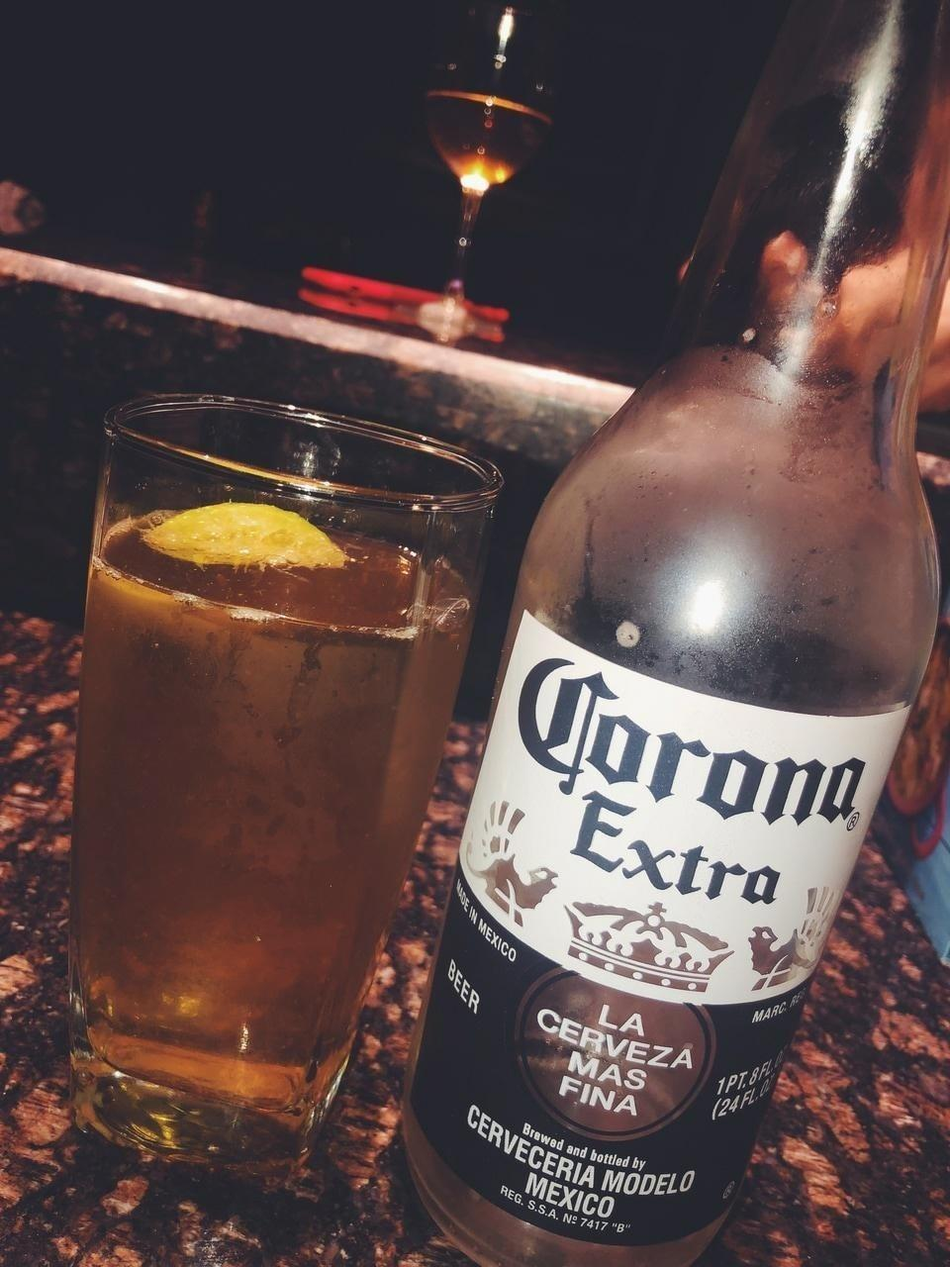bottle-glass: (395, 6, 950, 1267)
glass-normal: (53, 390, 507, 1171)
glass-wine: (406, 1, 565, 332)
